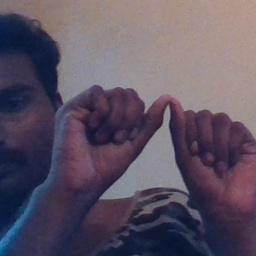A: (90, 80, 244, 186)
